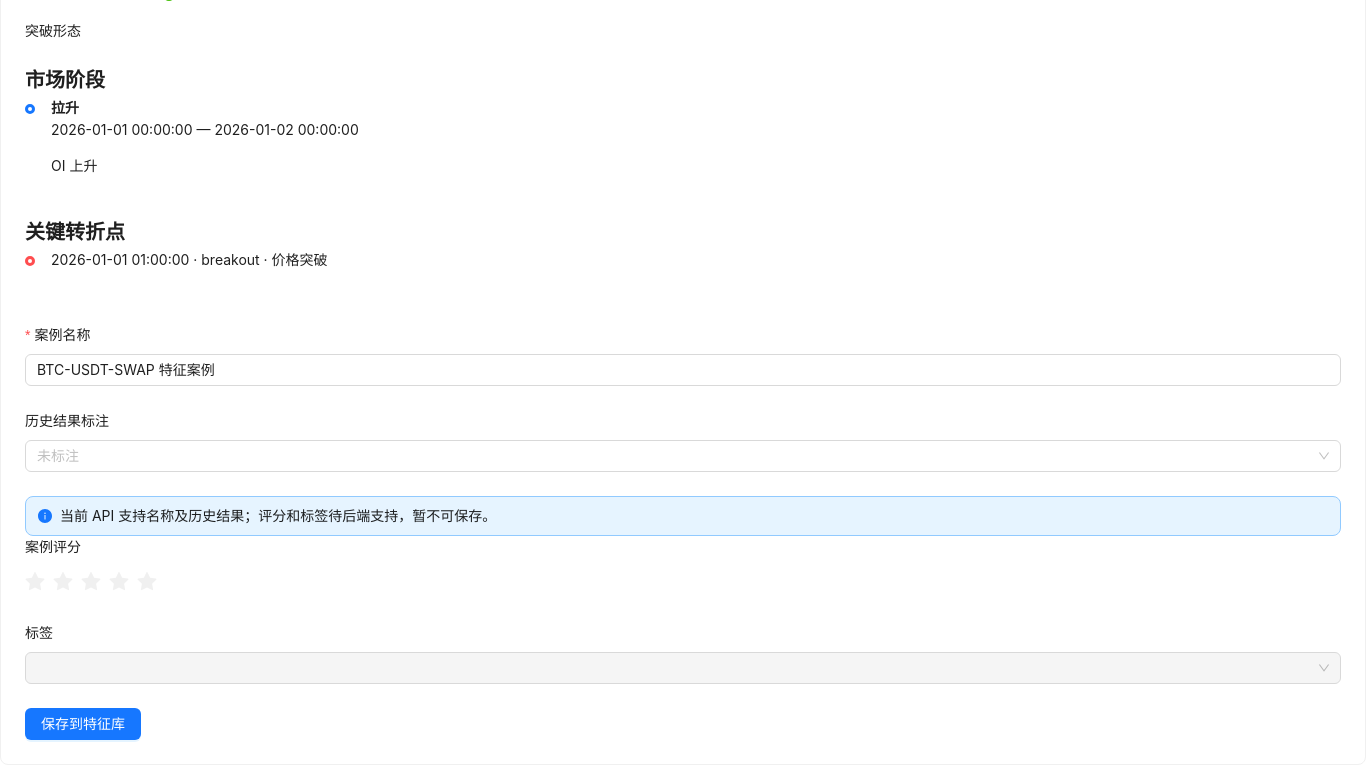
Scenario: shows save failures and permits retry
(page scrolled)
Click the button "保存到特征库".
click(83, 724)  # box [25,708,141,740]
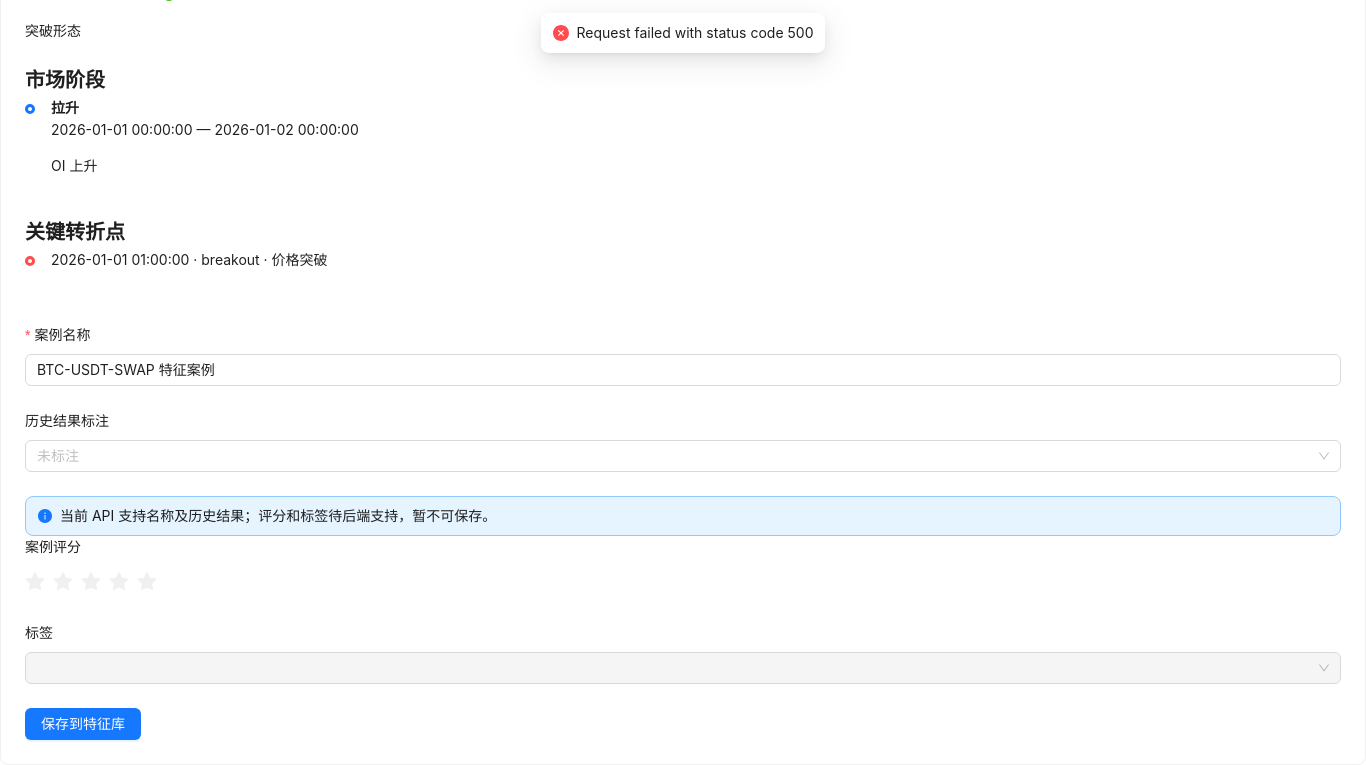
Now the text "Request failed with status code 500" is shown, box [576,22,813,44]
